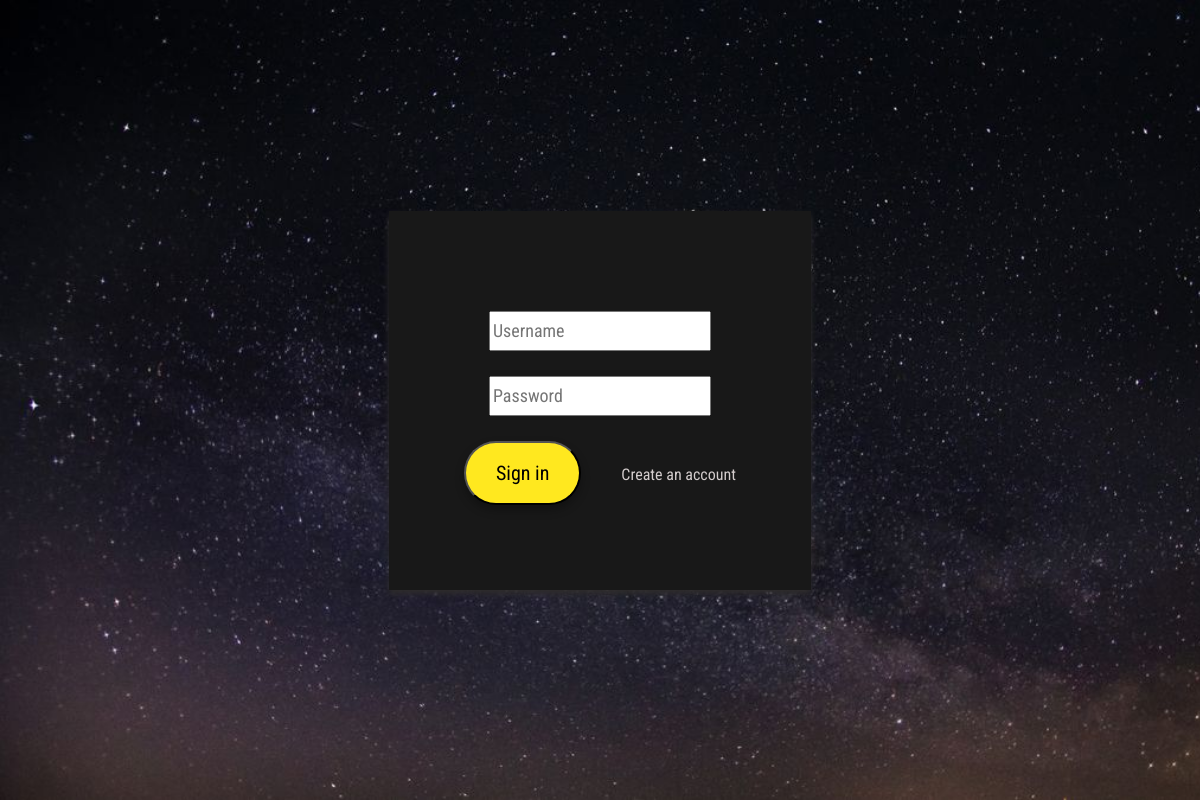
Login page › Does't create an account if one field is left empty
Step 1. Click the link "Create an account" → (679, 475), box [621,465,736,484]
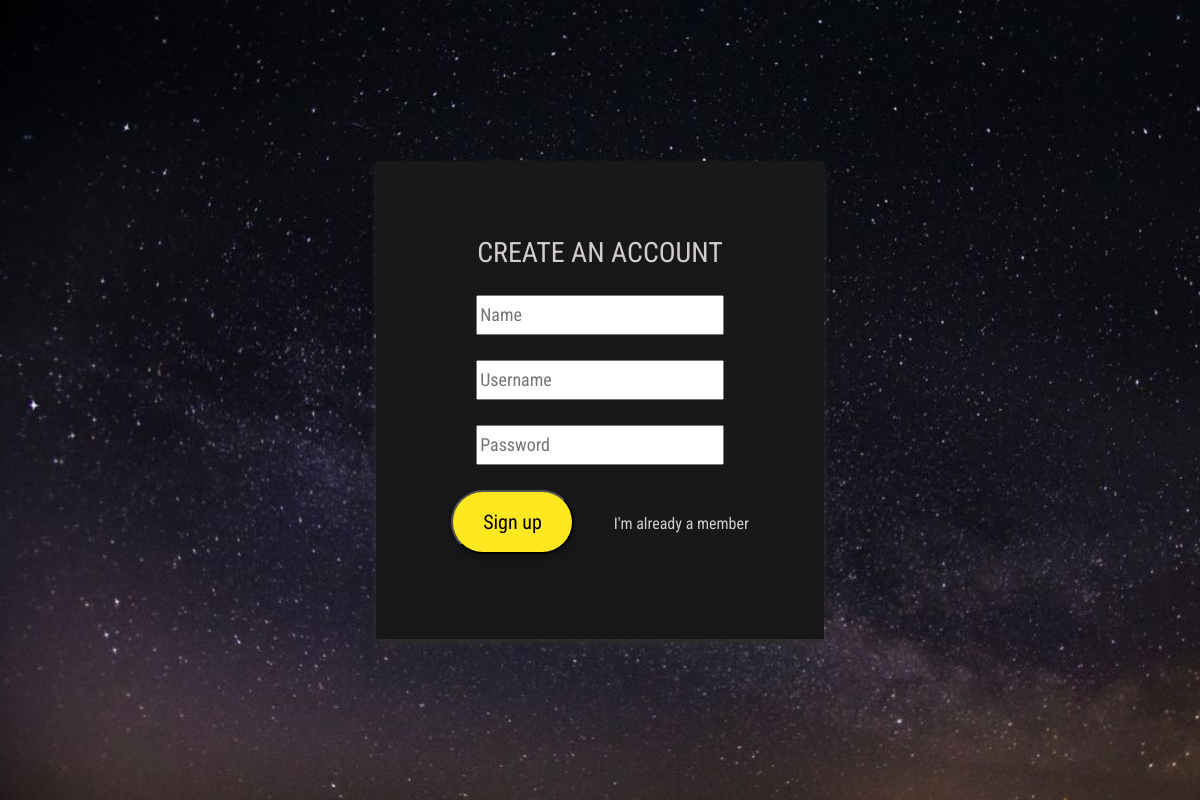
Step 2. Type "autouser" into the field named "username" → (600, 380), box [476,360,724,400]
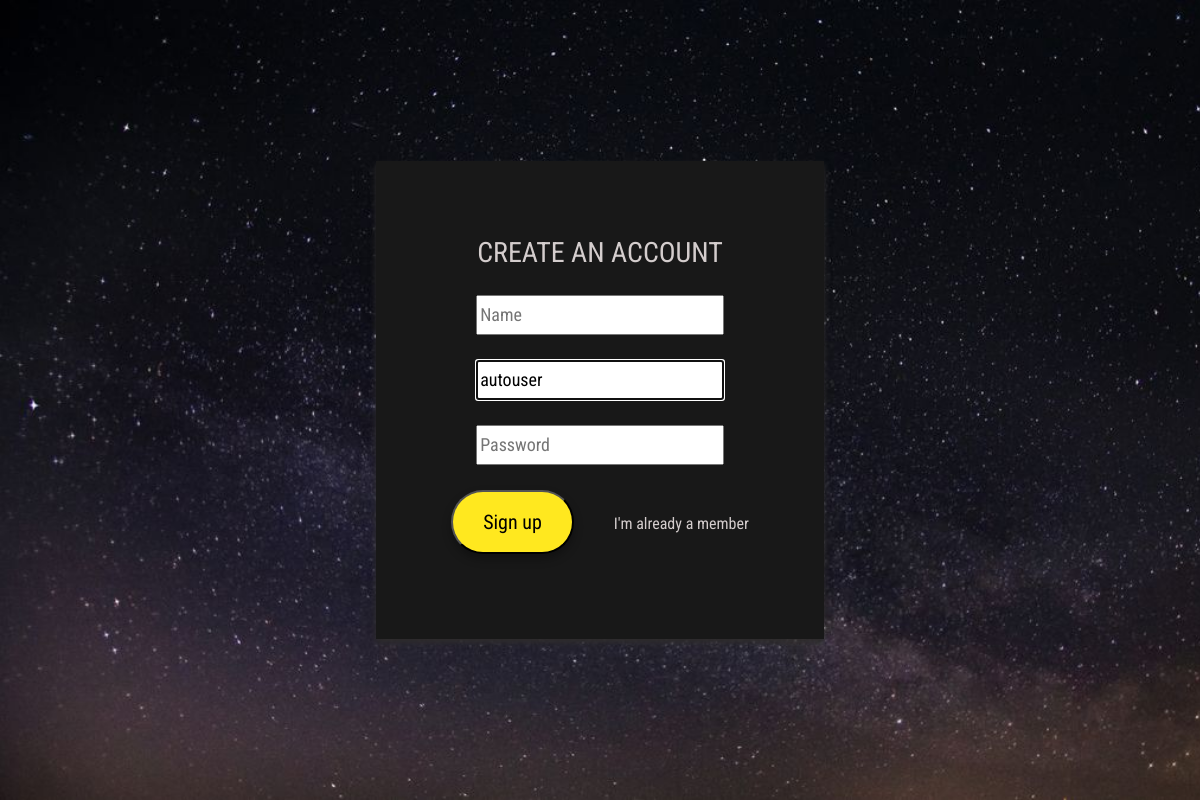
Step 3. Type "autouser" into the password field named "password" → (600, 445), box [476,425,724,465]
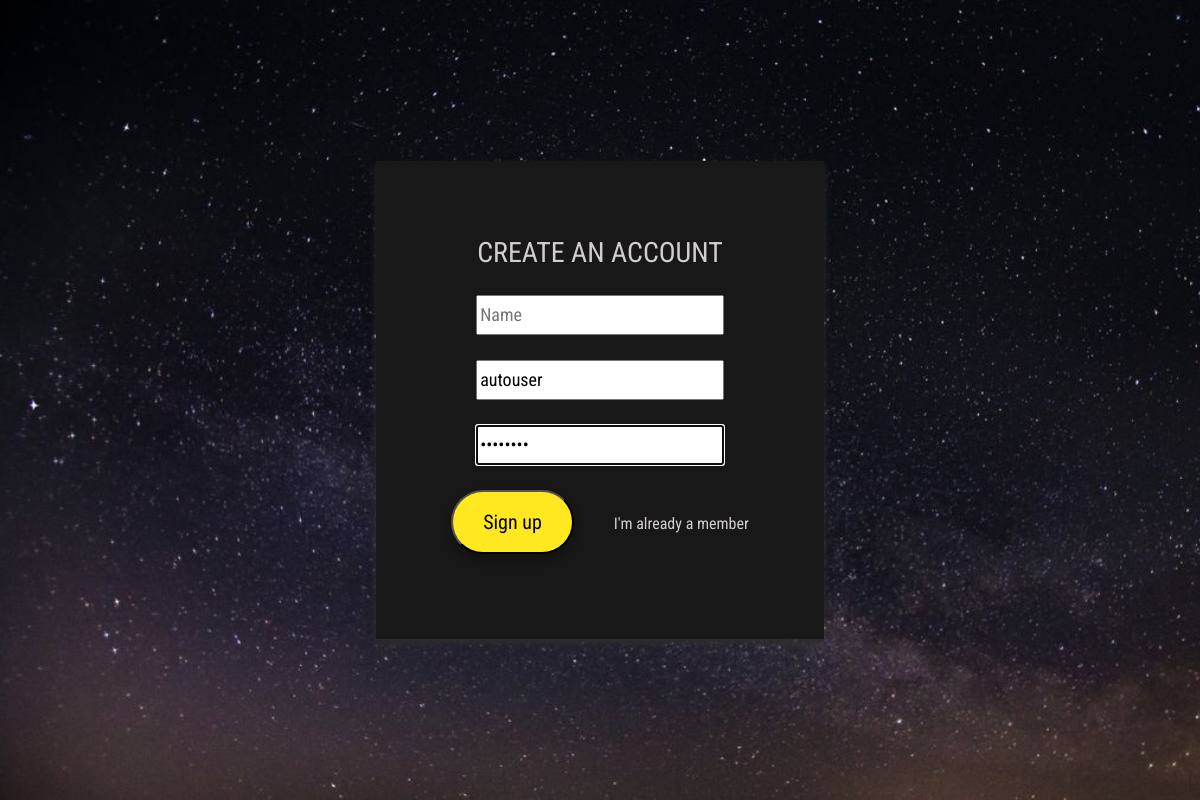
Step 4. Click the button "Sign up" → (513, 522), box [451,490,574,554]
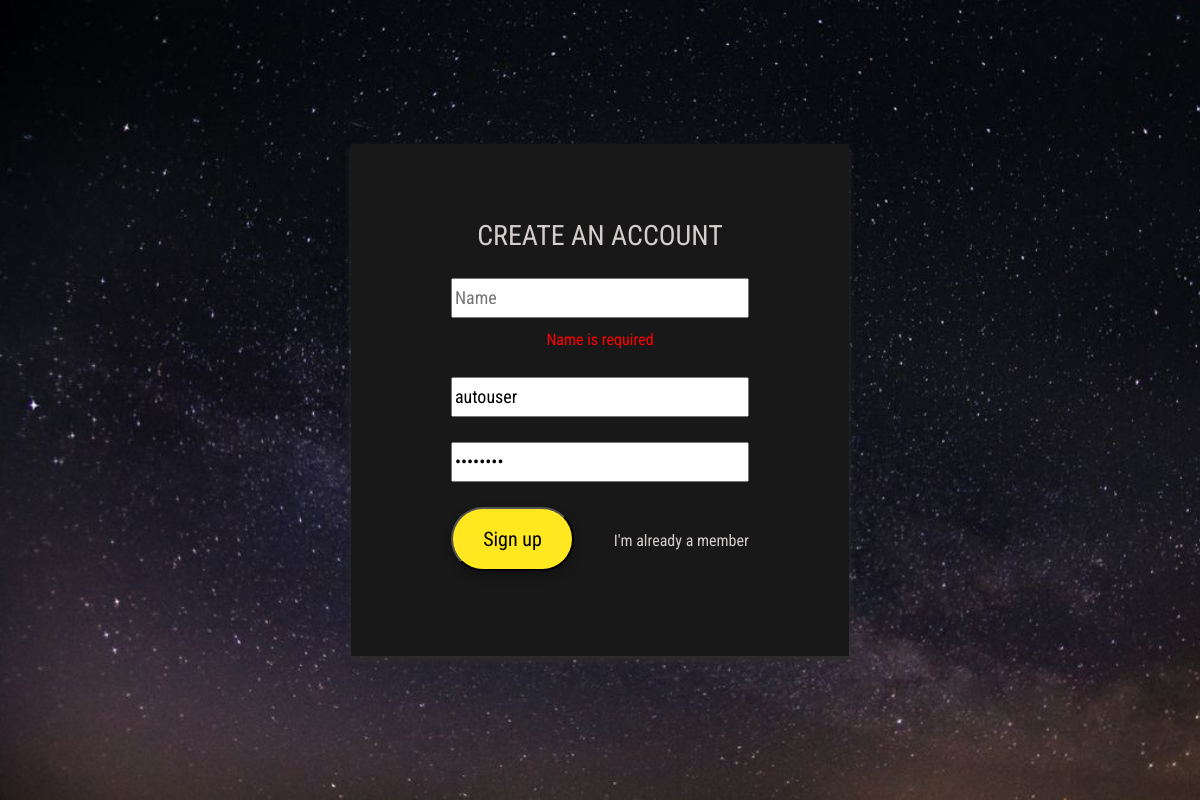
Expected: the text "Name is required" is shown, [546,328,654,352]
